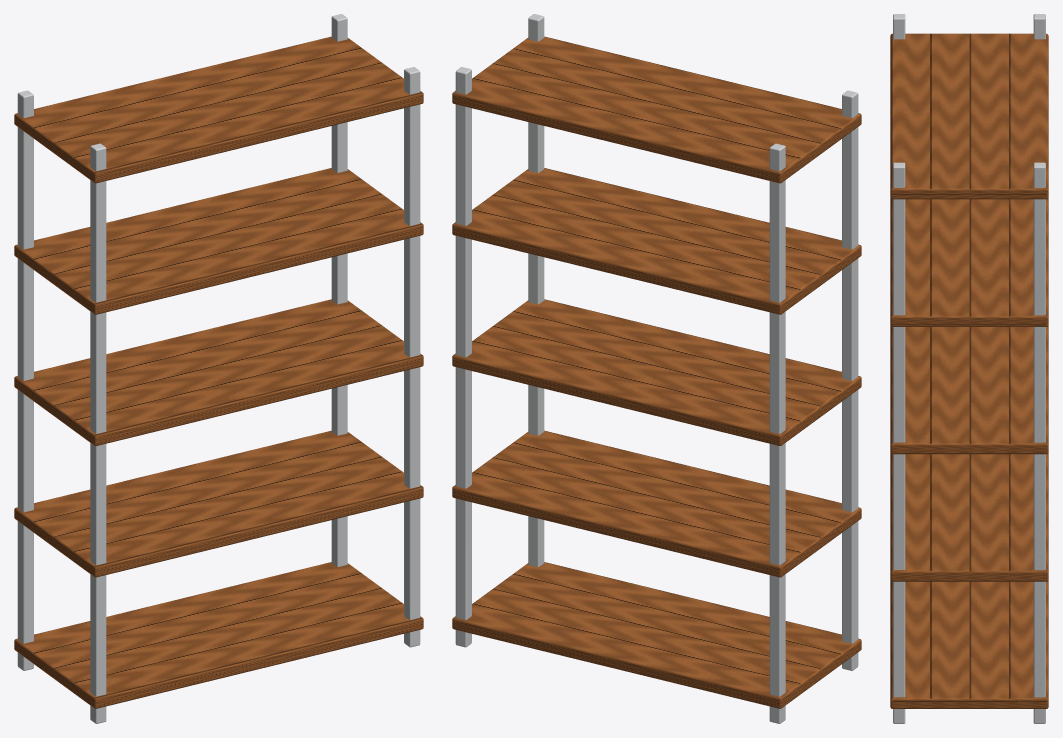
File: paranormal-investigation-house-shelving-810666a3__26762.glb
The picture shows the model from 3 angles, left to right: view 1: azimuth 30°, elevation 25°; view 2: azimuth 150°, elevation 25°; view 3: azimuth 270°, elevation 25°; orthographic projection. The views are drawn at different scales.
Visible parts, largest first — view 1: shelving; view 2: shelving; view 3: shelving.
Boxes of the visible parts, left/top/right/bottom form: shelving: left=14, top=14, right=423, bottom=723; shelving: left=452, top=14, right=861, bottom=723; shelving: left=890, top=14, right=1048, bottom=723.
Size of the model in its own units: 1.05 by 1.75 by 0.4499.
2 materials, 1 textured.
